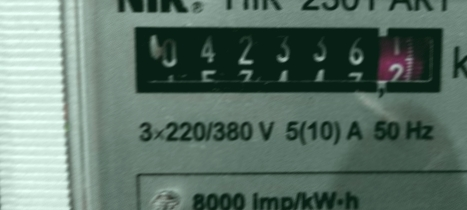0: (158, 35, 177, 68)
1: (388, 30, 400, 56)
2: (234, 31, 255, 66), (385, 61, 402, 82)
3: (271, 31, 289, 63), (310, 31, 327, 63)
4: (198, 31, 215, 63)
6: (345, 33, 365, 67)
screen: (120, 12, 455, 105)
